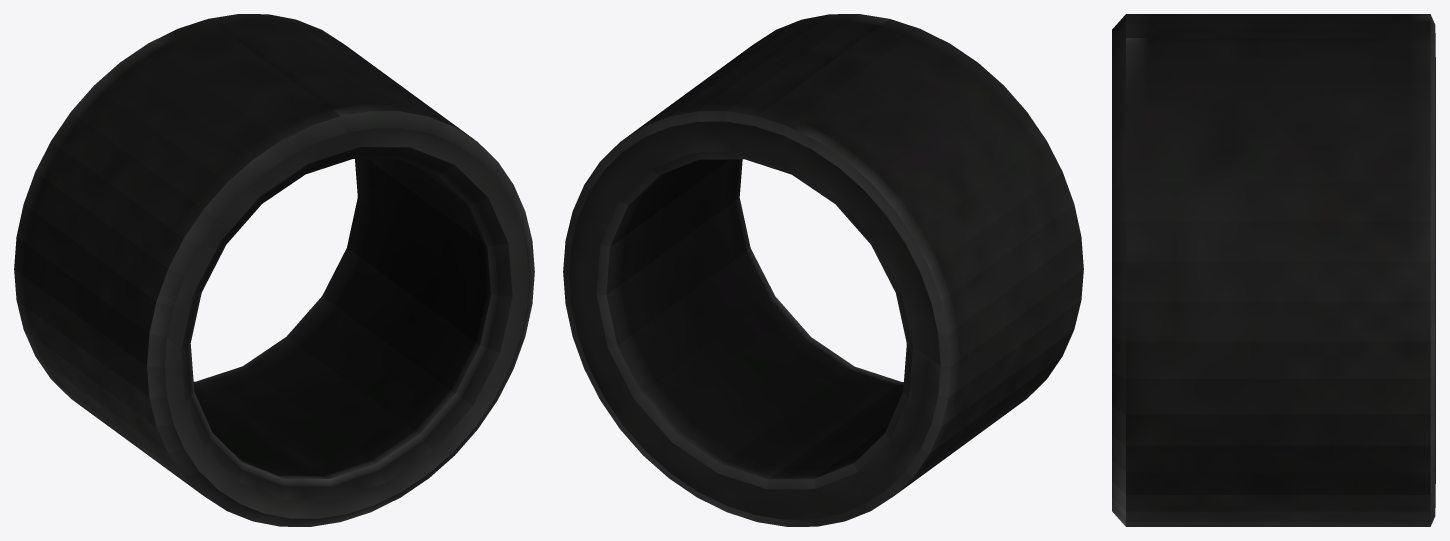
3 renders of one model, left to right at view 1: azimuth 30°, elevation 25°; view 2: azimuth 150°, elevation 25°; view 3: azimuth 270°, elevation 25°, orthographic. The views are drawn at different scales.
Visible parts, largest first — view 1: TW_5a6b585a8dc32e5a9c28b4f1_PZ_Import; view 2: TW_5a6b585a8dc32e5a9c28b4f1_PZ_Import; view 3: TW_5a6b585a8dc32e5a9c28b4f1_PZ_Import.
Boxes of the visible parts, x1,y1,x2,y2 form: TW_5a6b585a8dc32e5a9c28b4f1_PZ_Import: (14,14,534,526); TW_5a6b585a8dc32e5a9c28b4f1_PZ_Import: (563,14,1083,526); TW_5a6b585a8dc32e5a9c28b4f1_PZ_Import: (1112,14,1435,526).
Bounding box in the file's own units: 0.00937 × 0.00591 × 0.00937.
Materials: 1 (1 with a texture image).
